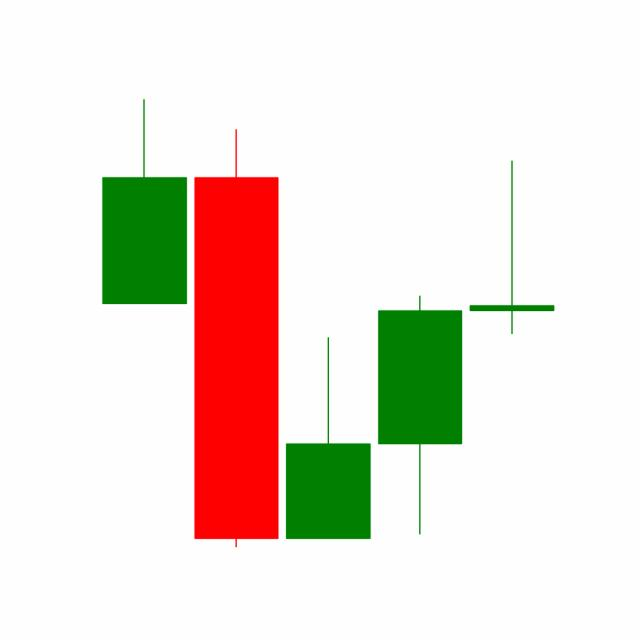Spinning Top: (464, 158, 558, 335)
